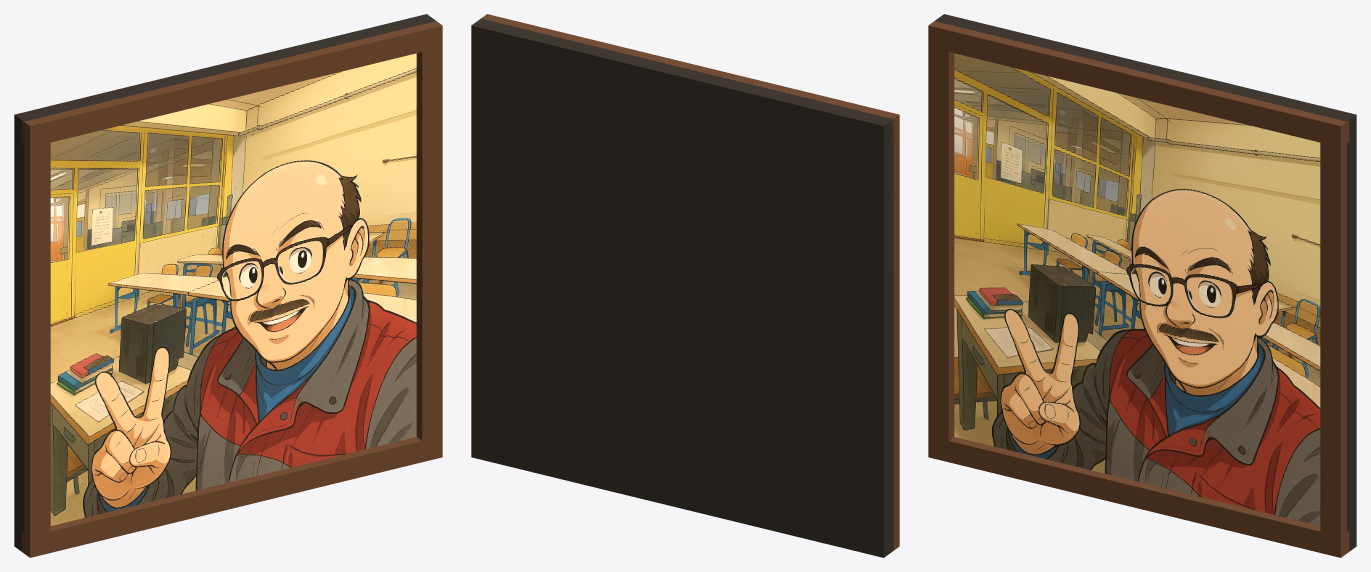
The model's file is tableau.glb.
3 renders of one model, left to right at view 1: azimuth 30°, elevation 25°; view 2: azimuth 150°, elevation 25°; view 3: azimuth 330°, elevation 25°, orthographic.
Visible parts, largest first — view 1: Image Manga, Cadre - haut, Cadre - bas, Cadre - gauche, Cadre - droite, Dos du tableau; view 2: Dos du tableau, Cadre - haut, Cadre - gauche; view 3: Image Manga, Cadre - haut, Cadre - bas, Cadre - droite, Cadre - gauche, Dos du tableau.
Boxes of the visible parts, left/top/right/bottom form: Image Manga: left=50, top=53, right=416, bottom=525; Cadre - haut: left=21, top=21, right=442, bottom=147; Cadre - bas: left=21, top=436, right=442, bottom=557; Cadre - gauche: left=21, top=142, right=50, bottom=536; Cadre - droite: left=416, top=47, right=442, bottom=440; Dos du tableau: left=14, top=14, right=435, bottom=551; Dos du tableau: left=471, top=18, right=893, bottom=557; Cadre - haut: left=481, top=14, right=899, bottom=141; Cadre - gauche: left=891, top=136, right=899, bottom=528; Image Manga: left=954, top=53, right=1320, bottom=525; Cadre - haut: left=928, top=21, right=1349, bottom=147; Cadre - bas: left=928, top=436, right=1349, bottom=557; Cadre - droite: left=1320, top=142, right=1346, bottom=536; Cadre - gauche: left=928, top=47, right=954, bottom=440; Dos du tableau: left=935, top=14, right=1356, bottom=551.
Bounding box in the file's own units: 4.44 × 4.44 × 0.295.
3 materials, 1 textured.
